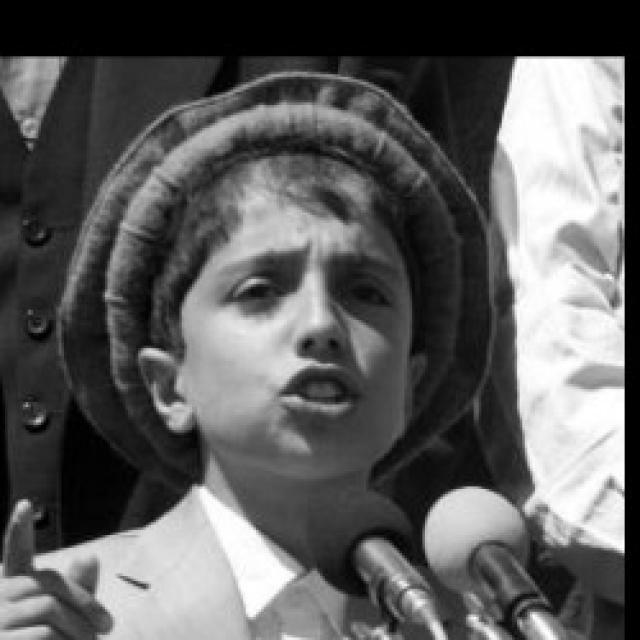real: (166, 150, 424, 486), (226, 265, 406, 323)
